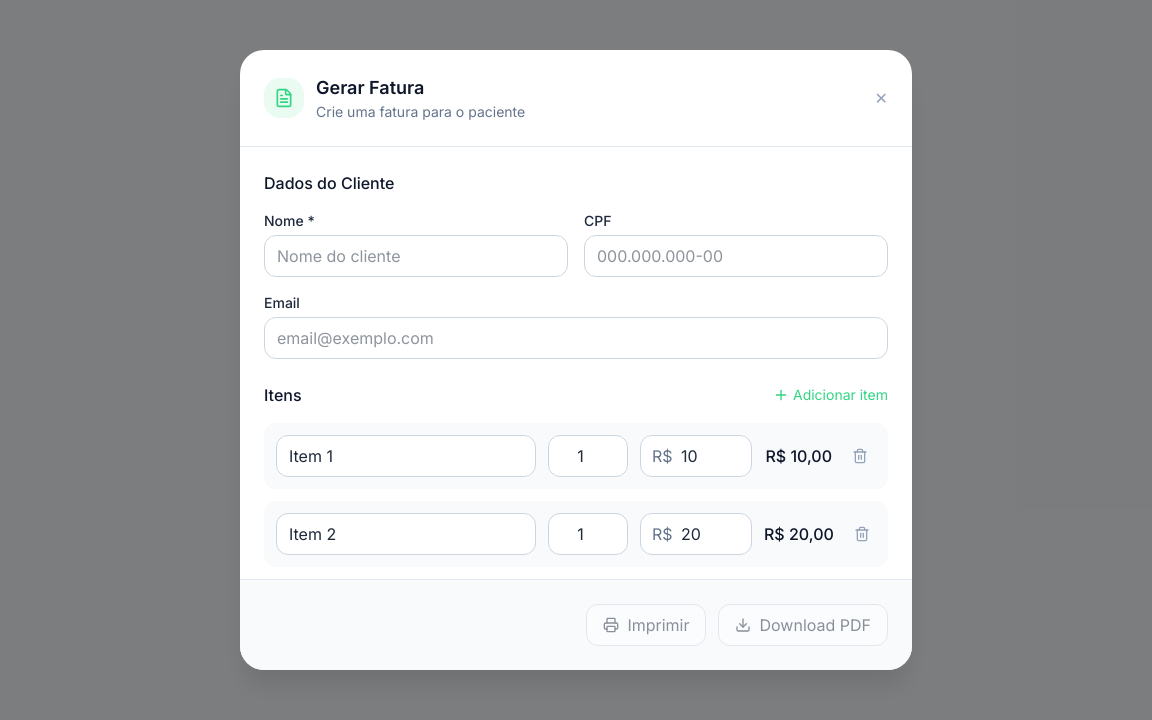
Scenario: InvoiceGenerator - Items Management › removing items › should remove item when clicking remove button
Expected: the number of fields with placeholder "Descrição" is 2, x1=276 y1=435 x2=536 y2=477; x1=276 y1=513 x2=536 y2=555
Click the button without text next to "R$ 10,00" at (860, 456), box x1=844 y1=440 x2=876 y2=472
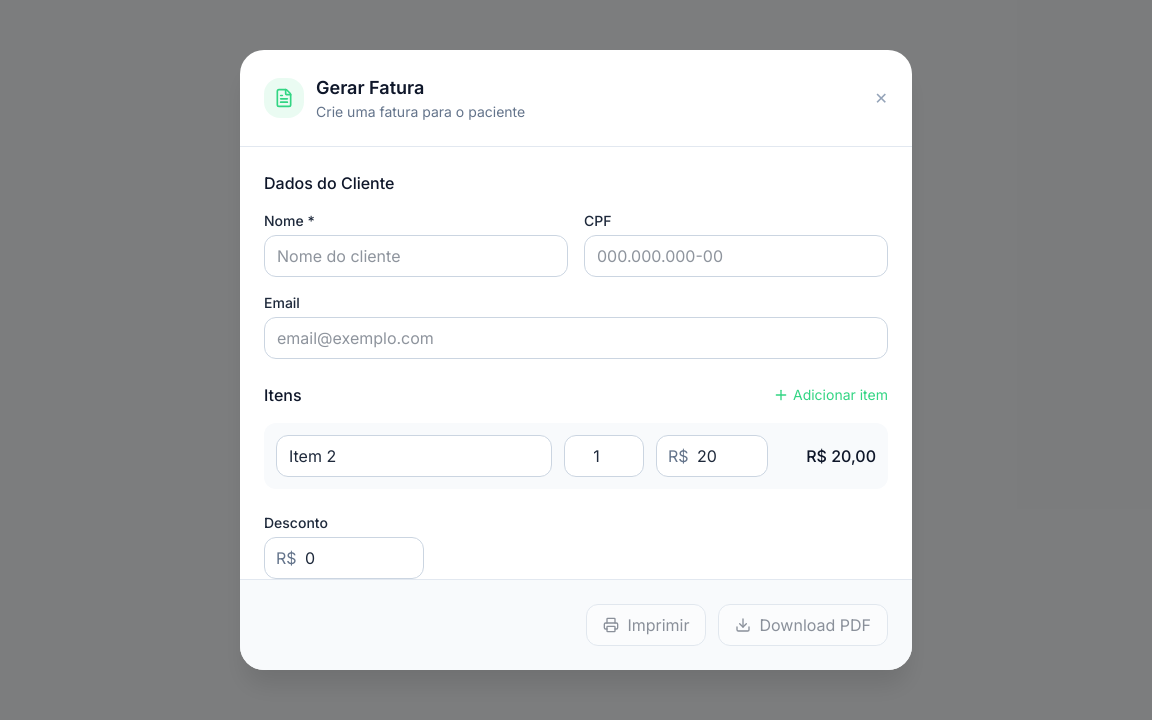
Expected: the number of fields with placeholder "Descrição" is 1, x1=276 y1=435 x2=552 y2=477
